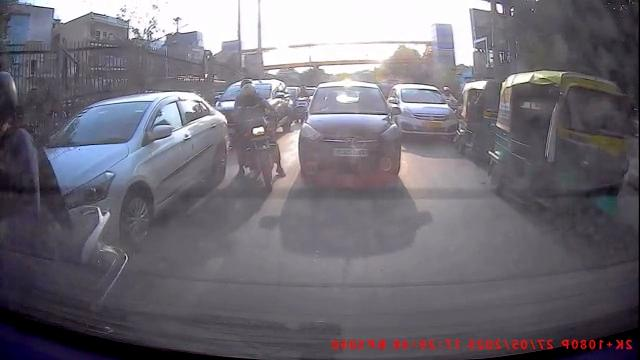passenger_with_helmet: (227, 77, 287, 191)
